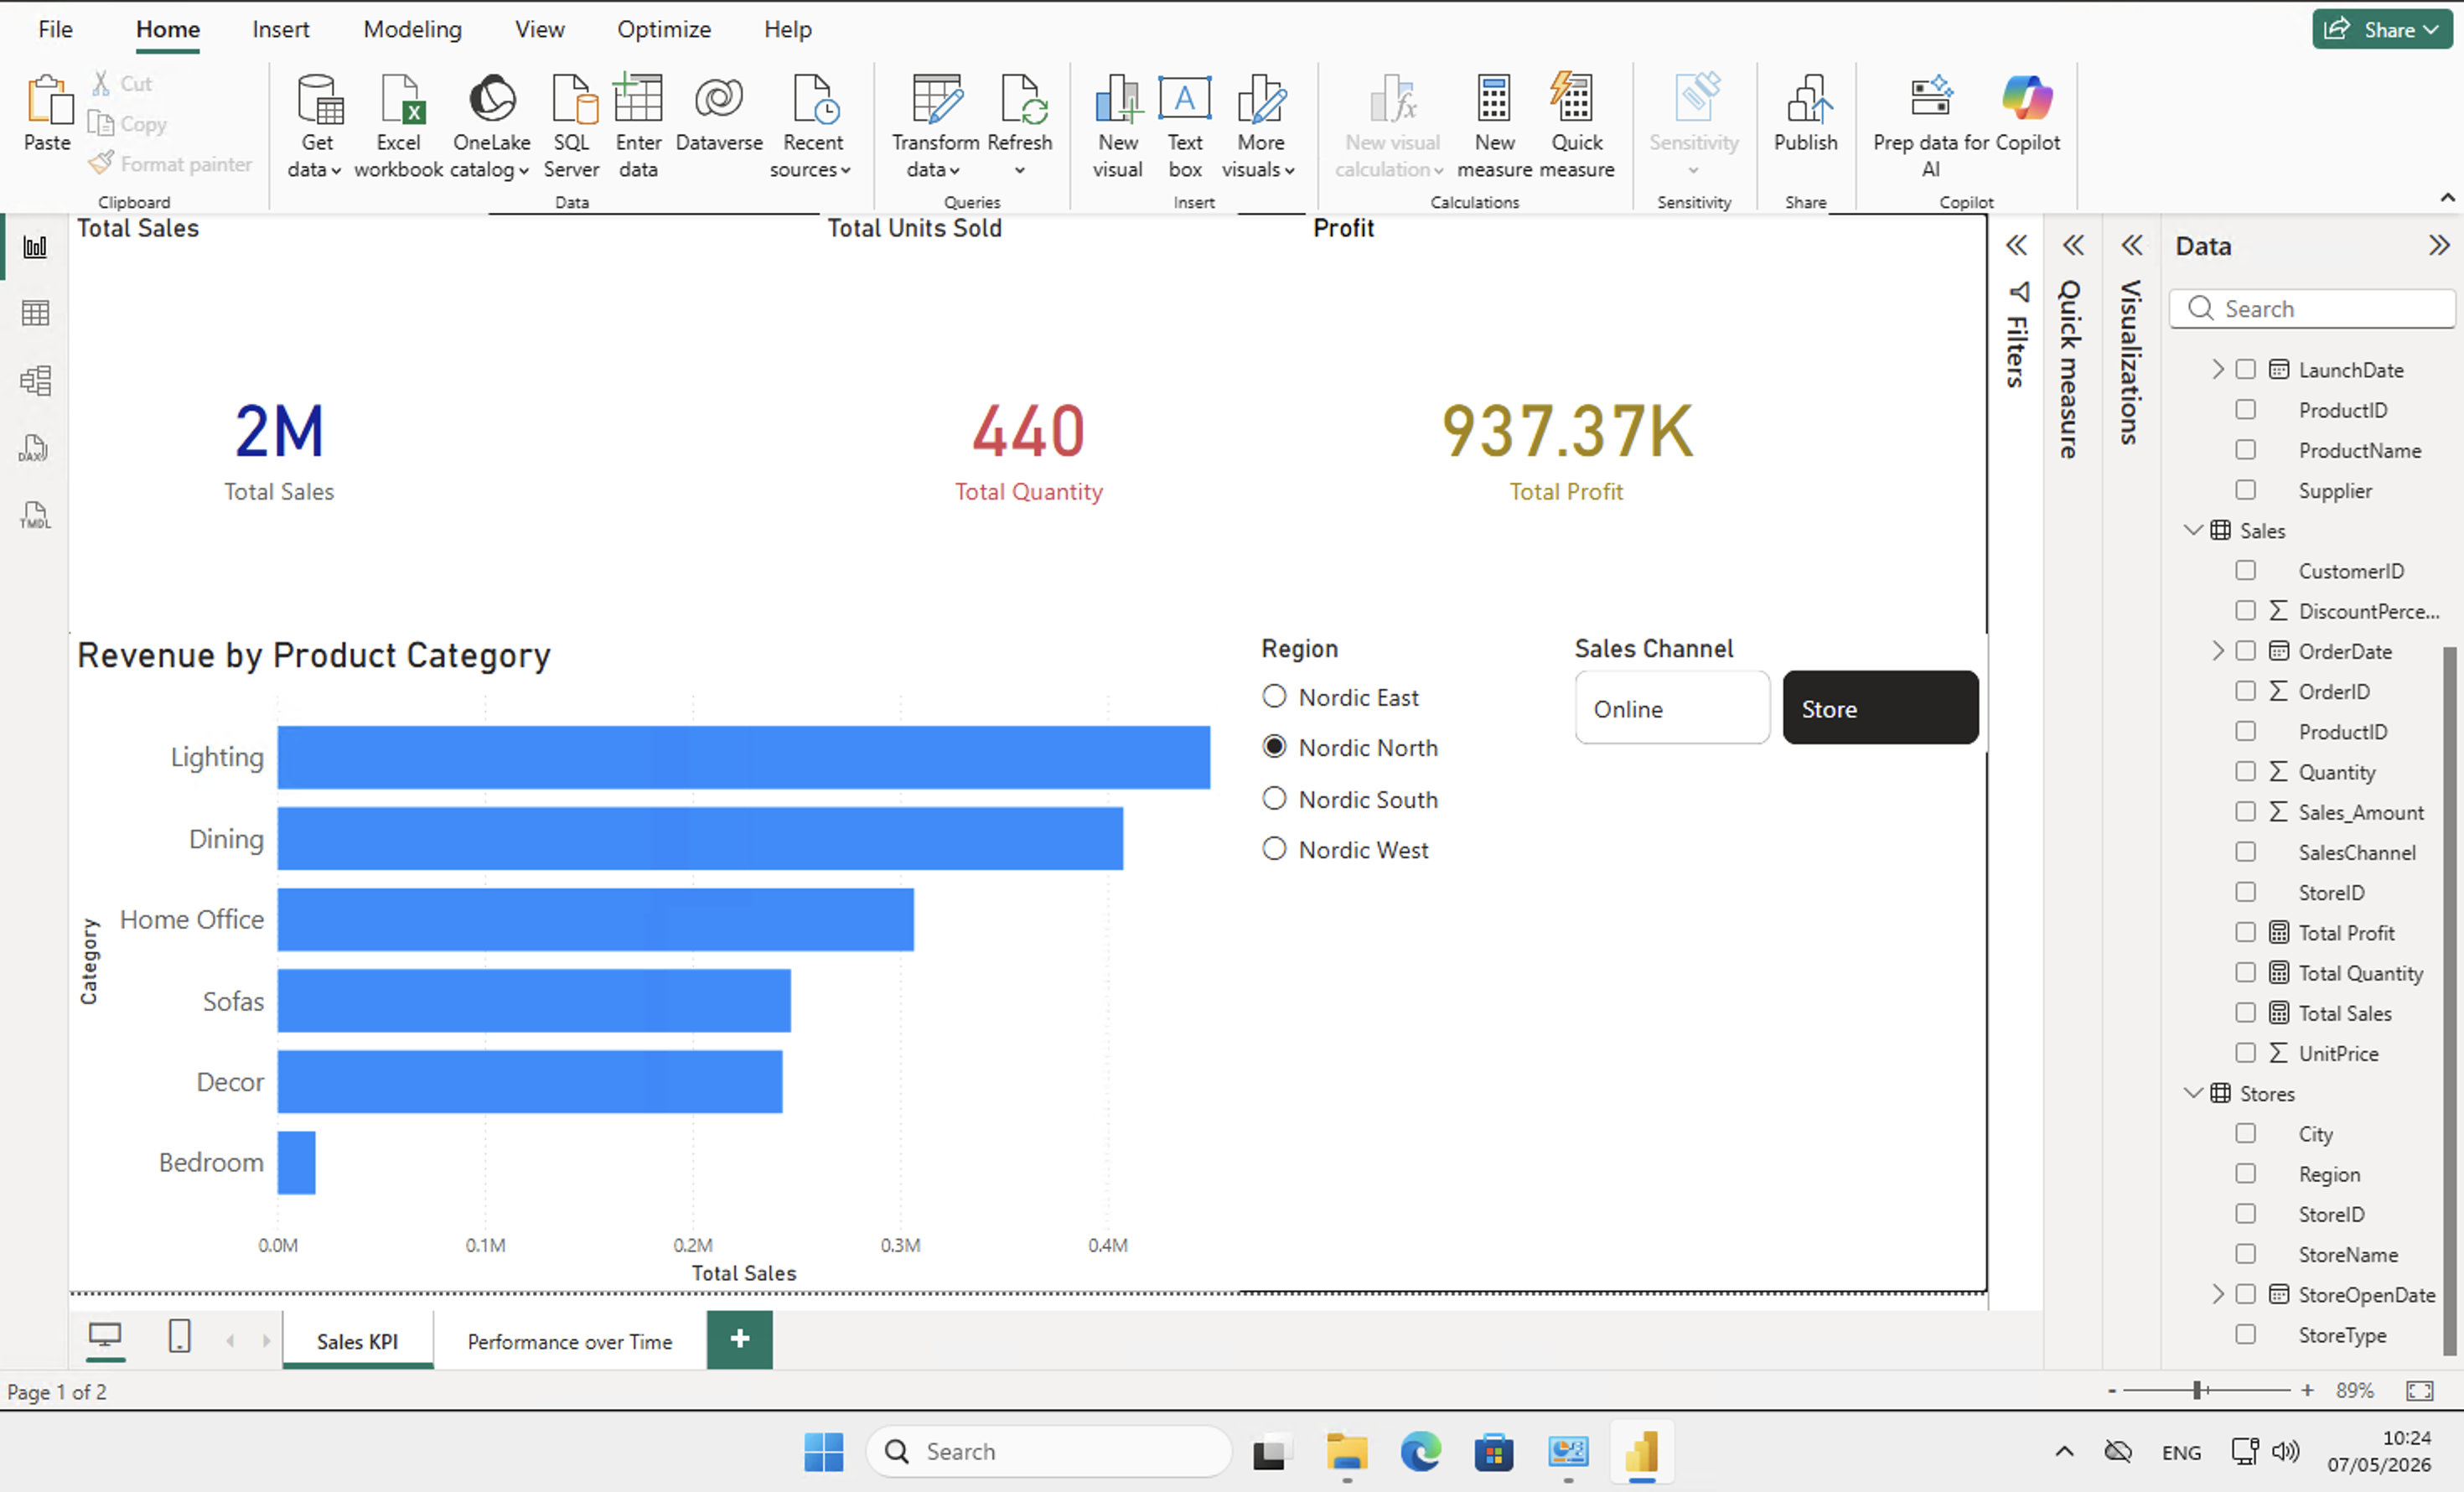

The dashboard page shown, as its layout file describes it:
{"tool":"powerbi","page":{"name":"Sales KPI","canvas":[1280,720],"ordinal":0},"visuals":[{"type":"card","title":"Total Units Sold","fields":{"Values":["Sales.Total Quantity"]},"box":[501,0,279.3,280.6],"z":0},{"type":"card","title":"Profit","fields":{"Values":["Sales.Total Profit"]},"box":[825.1,0,348.5,280.6],"z":1000},{"type":"card","title":"Total Sales","fields":{"Values":["Sales.Total Sales"]},"box":[0,0,280.3,280.3],"z":2000},{"type":"clusteredBarChart","title":"Revenue by Product Category","fields":{"Category":["Products.Category"],"Y":["Sales.Total Sales"]},"box":[0,280.3,780.9,439],"z":3000},{"type":"listSlicer","fields":{"Values":["Stores.Region"]},"box":[790.6,280.6,171.7,308.8],"z":4000},{"type":"advancedSlicerVisual","title":"Sales Channel","fields":{"Values":["Sales.SalesChannel"]},"box":[999.4,280.6,280.6,79.4],"z":5000}]}

Visuals, with their boxes on the page's 1280x720 design canvas (x1, y1, x2, y2). These are canvas units, not pixel positions in the 2464x1492 screenshot, which may show the page scaled, cropped or inside an application window:
"Total Units Sold" card: [x1=501, y1=0, x2=780, y2=281]
"Profit" card: [x1=825, y1=0, x2=1174, y2=281]
"Total Sales" card: [x1=0, y1=0, x2=280, y2=280]
"Revenue by Product Category" clusteredBarChart: [x1=0, y1=280, x2=781, y2=719]
listSlicer - Stores.Region: [x1=791, y1=281, x2=962, y2=589]
"Sales Channel" advancedSlicerVisual: [x1=999, y1=281, x2=1280, y2=360]
